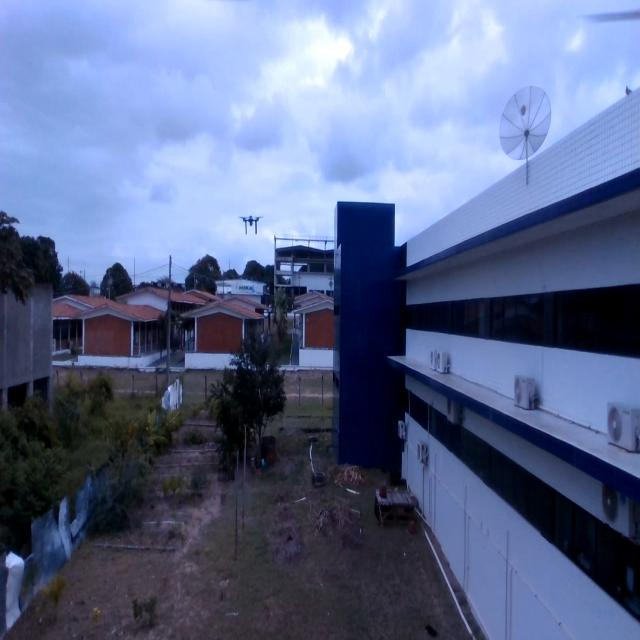-uav-: (238, 206, 265, 244)
